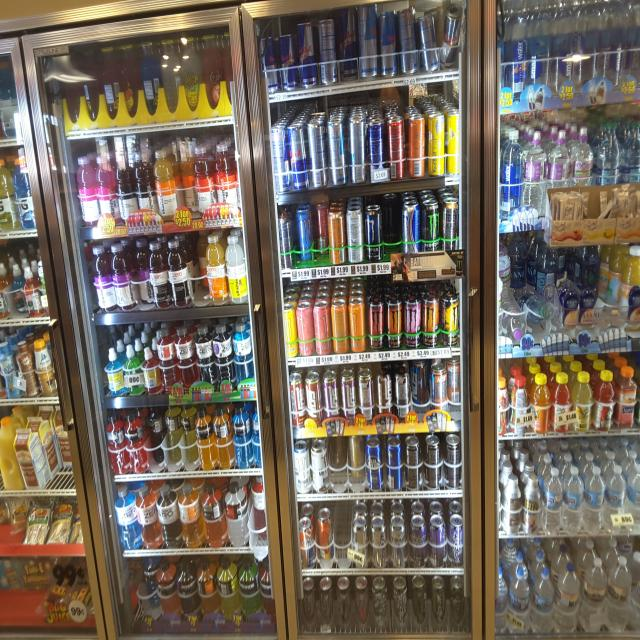unorganised: (398, 7, 464, 72), (145, 411, 195, 473), (502, 127, 523, 218), (328, 439, 364, 491), (314, 18, 339, 89), (47, 423, 71, 486), (496, 247, 518, 310), (130, 250, 151, 307), (179, 142, 195, 216), (312, 205, 330, 260), (191, 239, 207, 295), (9, 271, 22, 314)
